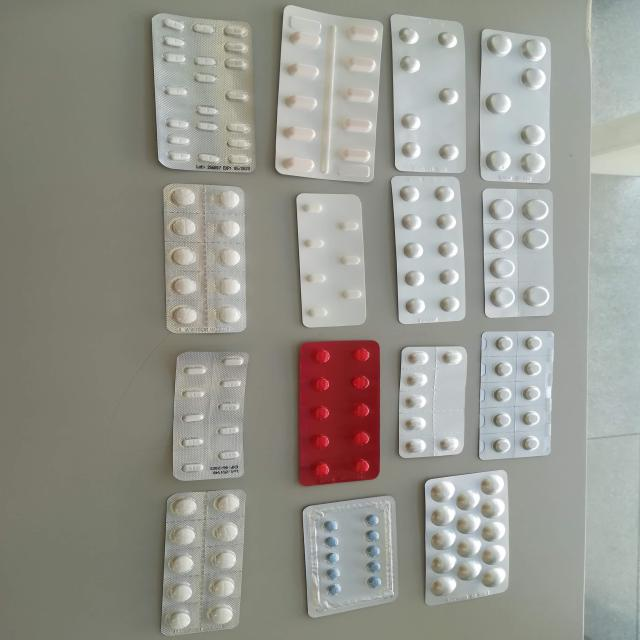Pill: (277, 86, 327, 120), (335, 53, 385, 81), (164, 271, 206, 303), (514, 63, 557, 92), (282, 58, 333, 82), (480, 147, 518, 179), (331, 144, 381, 168), (163, 211, 200, 242), (334, 111, 378, 137), (275, 155, 327, 177), (297, 230, 340, 256), (484, 197, 525, 224), (484, 226, 525, 253), (512, 121, 550, 150), (161, 580, 202, 606), (166, 606, 207, 632), (277, 123, 325, 145), (482, 89, 518, 118), (525, 194, 555, 228), (209, 488, 243, 518), (213, 245, 252, 271), (484, 285, 520, 313), (209, 216, 245, 244), (163, 242, 200, 269), (521, 228, 559, 254), (340, 82, 378, 108), (209, 187, 247, 213), (340, 21, 387, 42), (170, 494, 206, 521), (282, 27, 324, 50), (296, 266, 338, 289), (434, 87, 471, 113), (432, 432, 469, 458), (168, 550, 208, 574), (475, 469, 508, 498), (297, 303, 342, 324), (331, 213, 370, 237), (170, 303, 206, 329), (400, 208, 432, 237), (436, 140, 469, 168), (206, 276, 248, 297), (396, 23, 428, 50), (211, 573, 243, 600), (312, 513, 348, 537), (301, 403, 342, 424), (303, 460, 346, 480), (490, 256, 525, 280), (486, 29, 512, 61), (211, 548, 247, 571), (518, 34, 546, 63), (434, 26, 462, 55), (217, 304, 250, 328), (174, 455, 207, 479), (527, 284, 557, 310), (402, 294, 432, 320), (338, 252, 370, 276), (170, 527, 208, 547), (351, 510, 389, 530), (178, 382, 211, 405), (346, 427, 379, 450), (318, 579, 351, 602), (174, 408, 213, 427), (479, 544, 512, 566), (482, 566, 512, 590), (344, 342, 376, 364), (215, 376, 252, 395), (217, 423, 254, 442), (215, 524, 250, 544), (452, 487, 481, 511), (518, 334, 551, 355), (307, 371, 340, 392), (518, 406, 548, 429), (441, 348, 471, 371), (400, 140, 428, 164), (426, 504, 454, 528), (217, 447, 252, 466), (402, 413, 432, 435), (359, 527, 392, 547), (492, 407, 518, 432), (428, 527, 455, 551), (396, 53, 424, 76), (215, 353, 247, 373), (486, 334, 516, 355), (306, 345, 336, 366), (308, 431, 338, 452), (215, 397, 252, 414), (178, 431, 211, 450), (400, 110, 424, 136), (429, 478, 455, 502), (429, 552, 456, 575), (520, 384, 548, 406), (170, 186, 198, 208), (297, 199, 333, 216), (161, 131, 197, 148), (524, 155, 552, 176), (404, 437, 432, 458), (400, 371, 432, 389), (482, 497, 508, 519), (455, 537, 481, 559), (429, 574, 455, 596), (220, 135, 258, 150), (190, 102, 228, 117), (434, 240, 462, 260), (402, 240, 430, 260), (402, 348, 426, 371), (400, 182, 424, 205), (480, 520, 503, 544), (490, 358, 516, 379), (490, 384, 516, 405), (518, 434, 544, 455), (340, 284, 372, 301), (404, 392, 434, 410), (352, 458, 380, 477), (520, 362, 546, 382), (434, 210, 460, 230), (441, 269, 467, 289), (350, 402, 380, 419), (456, 513, 478, 536), (183, 361, 211, 379), (457, 559, 481, 580), (314, 537, 351, 550), (159, 33, 189, 49), (441, 297, 469, 314), (191, 70, 220, 86), (490, 434, 512, 455), (318, 552, 351, 566), (224, 120, 254, 135), (158, 16, 186, 32), (188, 21, 216, 37), (353, 372, 374, 393), (218, 41, 249, 55), (164, 116, 191, 132), (213, 606, 234, 626), (160, 50, 188, 65), (434, 184, 456, 203), (218, 24, 250, 37), (193, 152, 222, 166), (221, 89, 252, 102), (406, 270, 426, 290), (364, 560, 392, 574), (196, 120, 224, 134), (164, 84, 192, 98), (165, 148, 193, 162), (364, 579, 394, 592), (225, 153, 251, 167), (220, 58, 252, 69), (192, 55, 219, 68), (359, 547, 389, 558), (321, 568, 346, 579)
